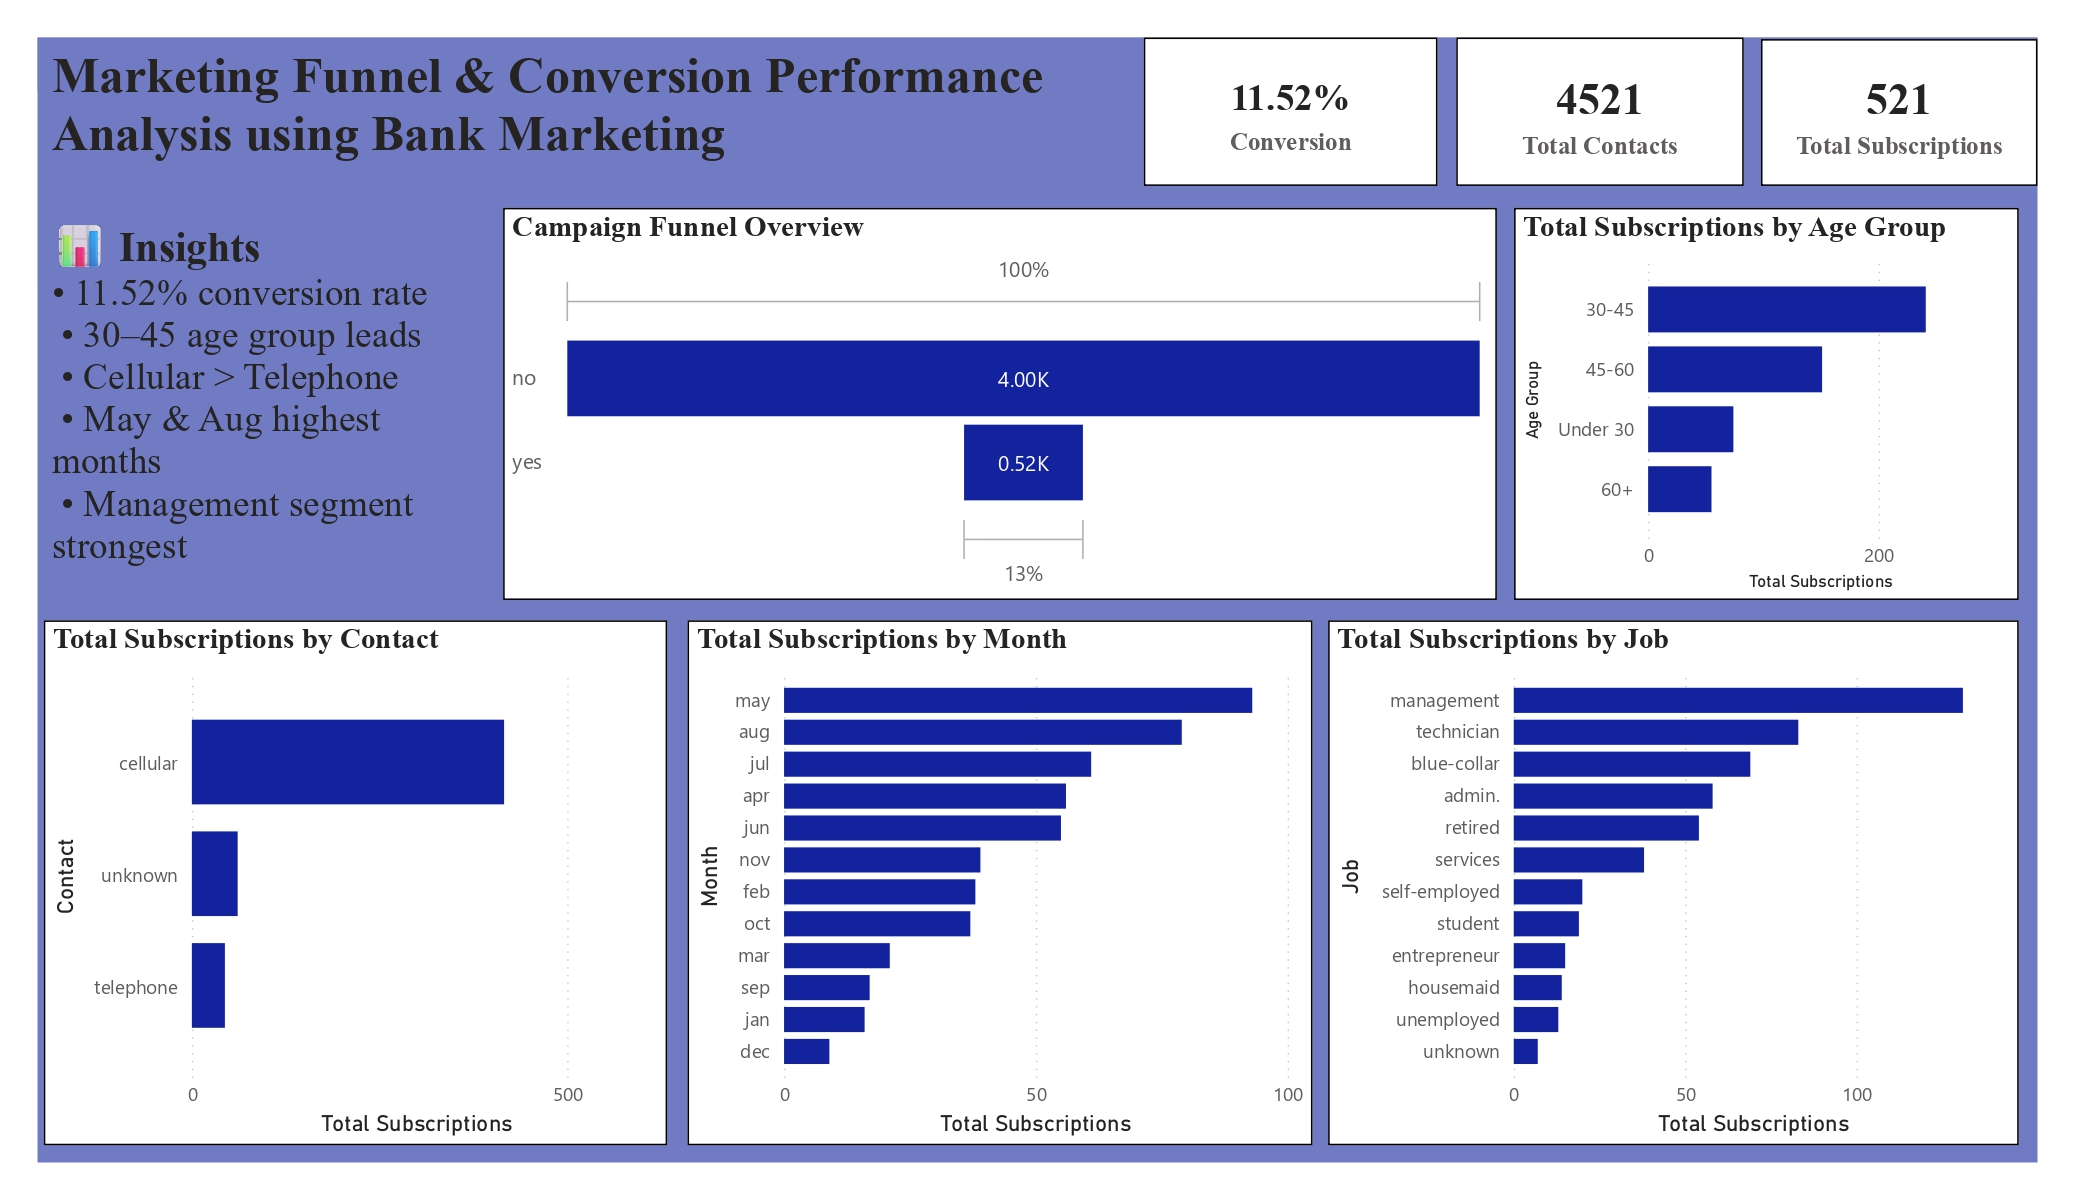

The page's visual inventory and layout, read from the dashboard file:
{"tool":"powerbi","page":{"name":"Page 1","canvas":[1280,720],"ordinal":0},"visuals":[{"type":"card","fields":{"Values":["bank.Conversion %"]},"box":[0,1.4,159.7,81.9],"z":0},{"type":"card","fields":{"Values":["bank.Total Contacts"]},"box":[201.4,1.4,159.7,81.9],"z":1},{"type":"card","fields":{"Values":["bank.Total Subscriptions"]},"box":[384.7,1.4,159.7,81.9],"z":2},{"type":"funnel","fields":{"Category":["bank.y"],"Y":["CountNonNull(bank.y)"]},"box":[0,83.3,1280.6,251.4],"z":3},{"type":"barChart","fields":{"Category":["bank.contact"],"Y":["bank.Total Subscriptions"]},"box":[4.2,397.2,505.6,312.5],"z":4},{"type":"barChart","fields":{"Y":["bank.Total Subscriptions"],"Category":["bank.month"]},"box":[322.2,395.8,350,304.2],"z":5},{"type":"barChart","fields":{"Category":["bank.job"],"Y":["bank.Total Subscriptions"]},"box":[525,384.7,743.1,325],"z":6},{"type":"barChart","fields":{"Y":["bank.Total Subscriptions"],"Category":["bank.Age Group"]},"box":[777.8,445.8,381.9,216.7],"z":7}]}

Visuals, with their boxes on the page's 1280x720 design canvas (x1, y1, x2, y2). These are canvas units, not pixel positions in the 2075x1200 screenshot, which may show the page scaled, cropped or inside an application window:
card - bank.Conversion %: 0:1:160:83
card - bank.Total Contacts: 201:1:361:83
card - bank.Total Subscriptions: 385:1:544:83
funnel - bank.y x CountNonNull(bank.y): 0:83:1281:335
barChart - bank.contact x bank.Total Subscriptions: 4:397:510:710
barChart - bank.Total Subscriptions x bank.month: 322:396:672:700
barChart - bank.job x bank.Total Subscriptions: 525:385:1268:710
barChart - bank.Total Subscriptions x bank.Age Group: 778:446:1160:662
